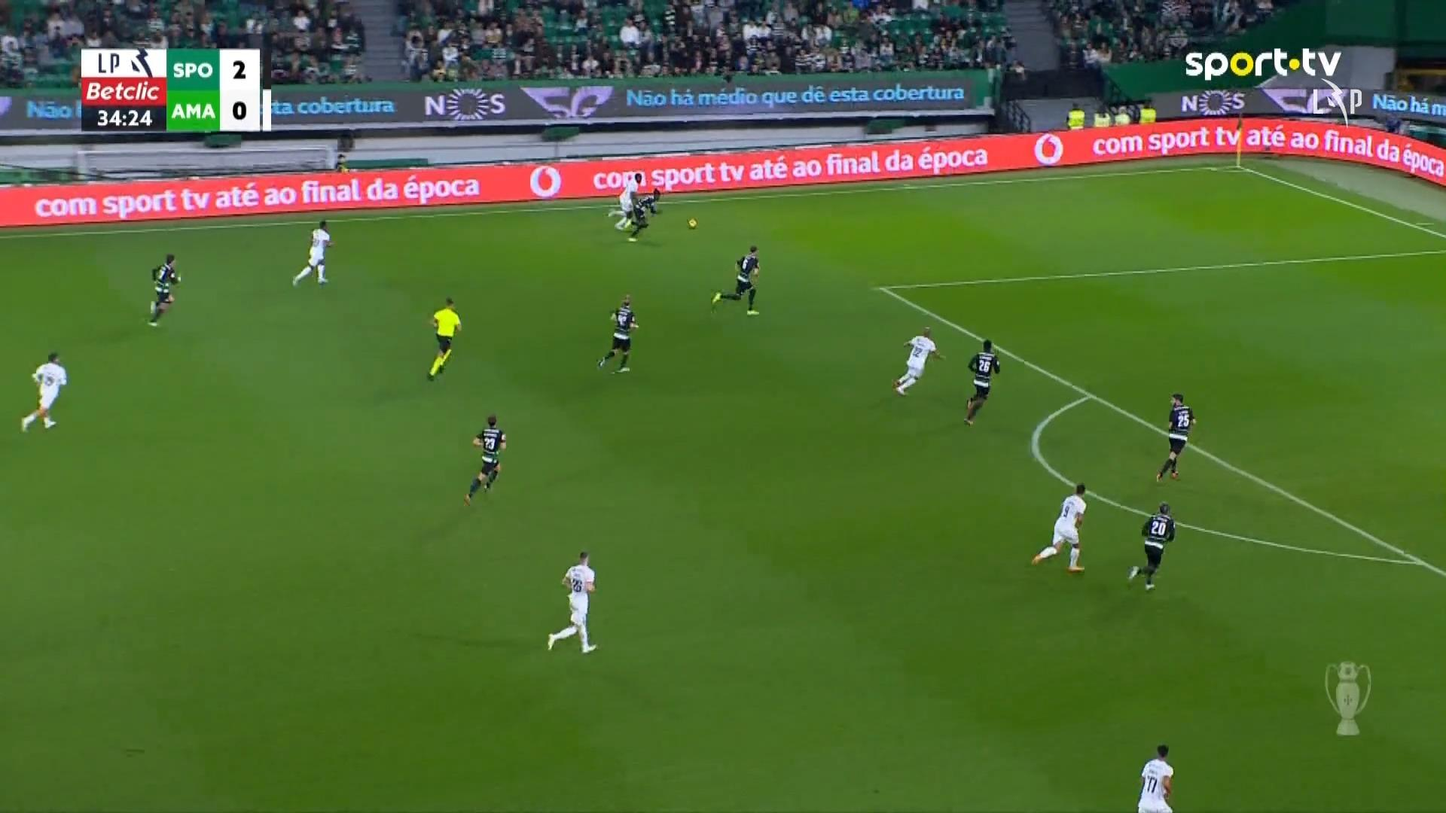ball: (687, 218, 697, 228)
player: (545, 550, 598, 654), (1030, 482, 1088, 572), (1127, 501, 1176, 591), (462, 414, 507, 506), (20, 351, 68, 432), (891, 324, 944, 396), (709, 245, 761, 316), (1155, 392, 1195, 482), (596, 294, 639, 373), (963, 338, 1000, 425), (291, 219, 334, 287), (1136, 744, 1174, 811), (146, 253, 180, 326), (627, 187, 660, 242), (612, 171, 642, 231)
referee: (426, 297, 461, 379)
